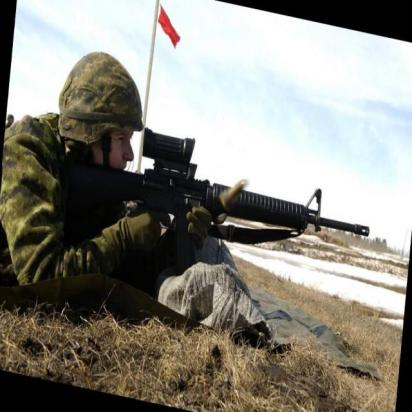Gun: (57, 110, 376, 327)
